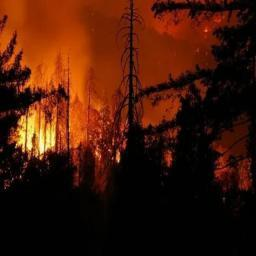Heavy smoke: (2, 1, 216, 83)
Large fire: (5, 62, 122, 184)
